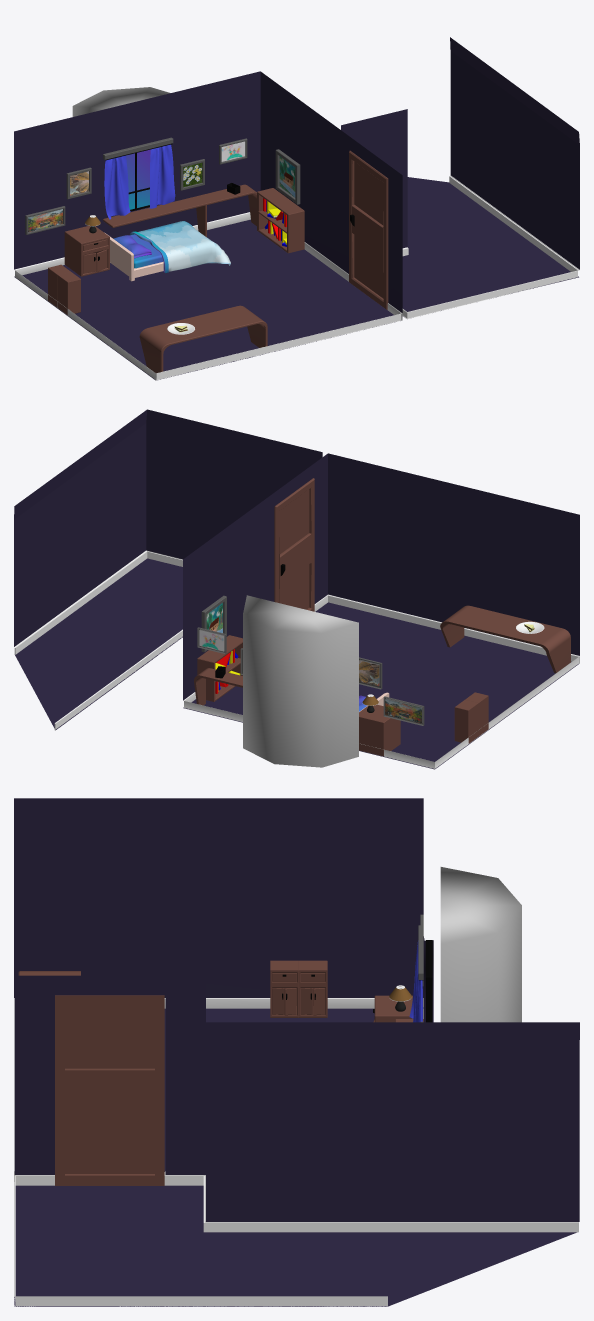
The model's file is EndScene.obj.
The picture shows the model from 3 angles, top to bottom: view 1: azimuth 30°, elevation 25°; view 2: azimuth 150°, elevation 25°; view 3: azimuth 270°, elevation 25°; orthographic projection. The views are drawn at different scales.
Visible parts, largest first — view 1: endscene polySurface12, endscene pCube68, endscene polySurface15, endscene Part5, endscene polySurface10, endscene pCube35, endscene pCube2, pCube25 endscene, endscene polySurface5, endscene polySurface6, endscene pCylinder1, endscene pCube9 (+8 smaller); view 2: endscene polySurface12, endscene pCylinder1, endscene pCube68, endscene polySurface15, pCube25 endscene, endscene pCube35, endscene pCube70, endscene pCube32, endscene pCube29, endscene polySurface10, endscene pCube30, endscene pCube28 (+1 smaller); view 3: endscene polySurface12, endscene pCube68, endscene pCylinder1, endscene pCube73, endscene pCube70, pCube25 endscene, endscene pCube9.
Boxes of the visible parts, bbox=[...] form: endscene polySurface12: bbox=[14, 37, 579, 380]; endscene pCube68: bbox=[349, 150, 388, 309]; endscene polySurface15: bbox=[139, 305, 267, 373]; endscene Part5: bbox=[130, 221, 230, 272]; endscene polySurface10: bbox=[103, 184, 256, 237]; endscene pCube35: bbox=[257, 188, 304, 253]; endscene pCube2: bbox=[104, 232, 163, 281]; pCube25 endscene: bbox=[64, 226, 109, 276]; endscene polySurface5: bbox=[149, 144, 175, 208]; endscene polySurface6: bbox=[104, 155, 130, 219]; endscene pCylinder1: bbox=[72, 87, 170, 116]; endscene pCube9: bbox=[126, 149, 158, 211]; endscene polySurface12: bbox=[14, 409, 579, 769]; endscene pCylinder1: bbox=[243, 595, 358, 767]; endscene pCube68: bbox=[274, 478, 314, 611]; endscene polySurface15: bbox=[440, 605, 570, 673]; pCube25 endscene: bbox=[359, 704, 400, 756]; endscene pCube35: bbox=[197, 635, 242, 701]; endscene pCube70: bbox=[454, 700, 478, 743]; endscene pCube32: bbox=[383, 696, 424, 725]; endscene pCube29: bbox=[201, 595, 226, 652]; endscene polySurface10: bbox=[194, 668, 242, 705]; endscene pCube30: bbox=[359, 657, 382, 689]; endscene pCube28: bbox=[197, 627, 226, 653]; endscene polySurface12: bbox=[14, 798, 579, 1306]; endscene pCube68: bbox=[55, 995, 164, 1185]; endscene pCylinder1: bbox=[440, 867, 521, 1022]; endscene pCube73: bbox=[270, 960, 298, 1017]; endscene pCube70: bbox=[299, 960, 327, 1017]; pCube25 endscene: bbox=[374, 995, 412, 1022]; endscene pCube9: bbox=[425, 940, 432, 1022].
Size of the model in its own units: 98.58 by 33.28 by 78.92.
